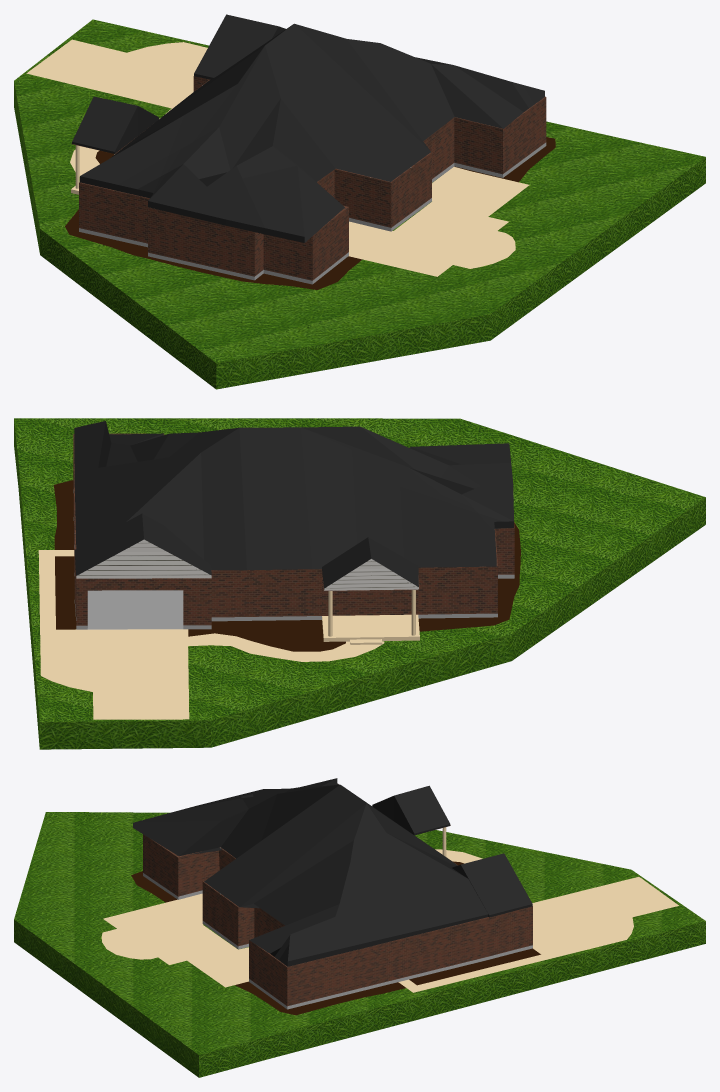
File: 808 Hawk.glb
The picture shows the model from 3 angles, top to bottom: view 1: azimuth 30°, elevation 25°; view 2: azimuth 150°, elevation 25°; view 3: azimuth 270°, elevation 25°; orthographic projection. The views are drawn at different scales.
Visible parts, largest first — view 1: Ground, Roof, Building, Concrete; view 2: Ground, Roof, Building, Concrete, Garage Door; view 3: Ground, Roof, Building, Concrete.
Part boxes in pixels (x1=…): Ground: x1=14, y1=19, x2=705, y2=389; Roof: x1=72, y1=14, x2=544, y2=242; Building: x1=71, y1=76, x2=546, y2=284; Concrete: x1=26, y1=39, x2=529, y2=276; Ground: x1=14, y1=418, x2=705, y2=749; Roof: x1=74, y1=421, x2=513, y2=590; Building: x1=73, y1=433, x2=514, y2=644; Concrete: x1=38, y1=550, x2=384, y2=719; Garage Door: x1=87, y1=590, x2=183, y2=628; Ground: x1=14, y1=812, x2=705, y2=1077; Roof: x1=133, y1=778, x2=532, y2=966; Building: x1=143, y1=825, x2=532, y2=1009; Concrete: x1=101, y1=849, x2=678, y2=992.
Bounding box in the file's own units: 48.99 × 13.37 × 58.88.
Materials: 7 (3 with a texture image).
